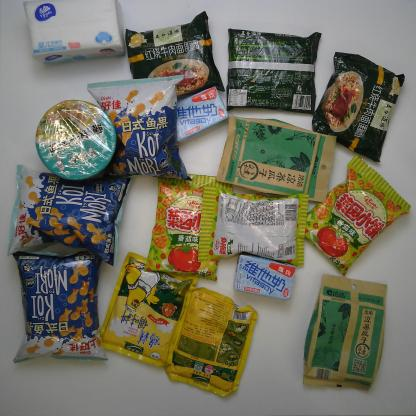Dried Food: (215, 114, 338, 204), (302, 274, 388, 392)
Instant Noodles: (311, 51, 406, 164), (124, 9, 226, 99), (226, 27, 322, 115), (34, 99, 118, 182)
Milk: (232, 252, 298, 301), (177, 86, 229, 144)
Puffed Food: (6, 164, 134, 268), (304, 155, 410, 278), (87, 74, 193, 184), (10, 249, 108, 365), (142, 172, 236, 284), (198, 185, 310, 267)
Seasoner: (99, 249, 200, 368), (161, 286, 259, 398)
Tissue: (22, 0, 126, 66)
